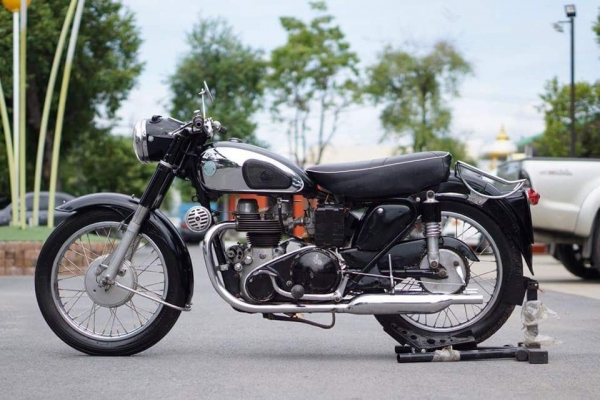motorcycle: (35, 114, 535, 347)
